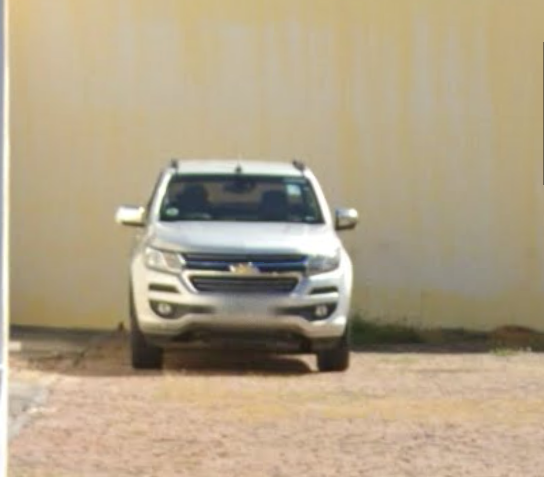car: (111, 149, 386, 377)
